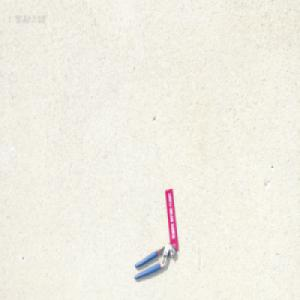Label: (165, 188, 178, 251)
Pliers: (134, 242, 176, 280)
